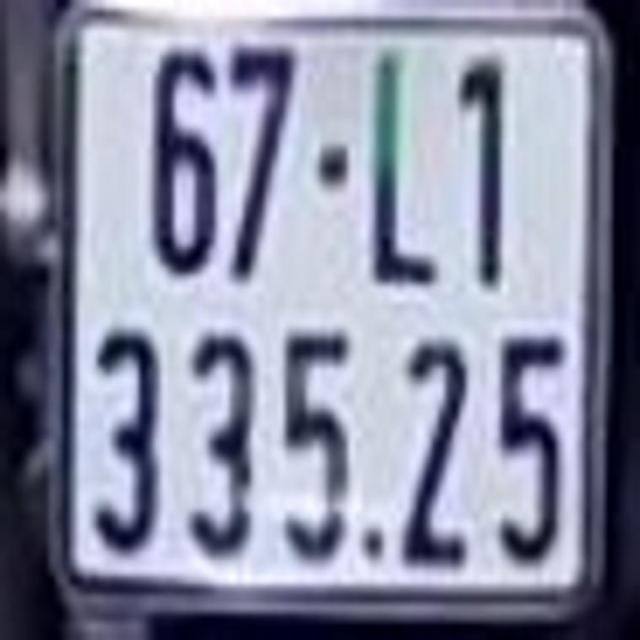1: (460, 44, 502, 290)
2: (408, 332, 468, 559)
3: (93, 324, 158, 548), (192, 328, 252, 559)
5: (499, 328, 565, 562), (287, 329, 349, 561)
6: (153, 45, 218, 274)
7: (227, 45, 298, 278)
L: (373, 49, 440, 290)
